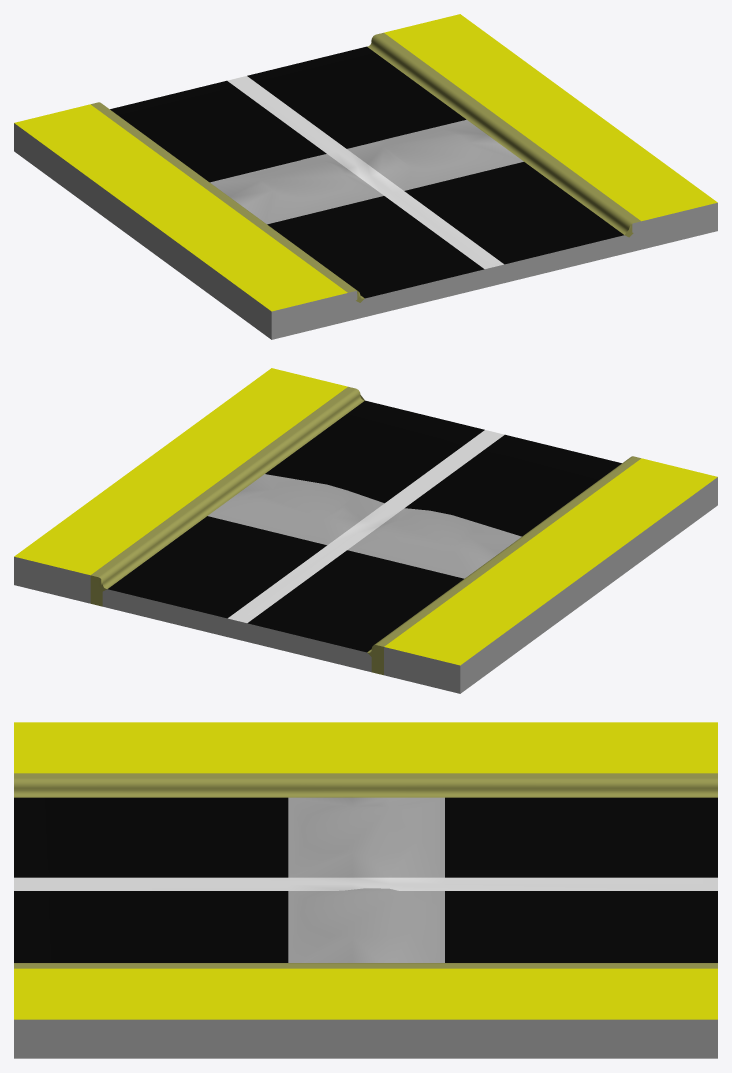
Rendered from Road2 fbx.fbx.
The picture shows the model from 3 angles, top to bottom: view 1: azimuth 30°, elevation 25°; view 2: azimuth 150°, elevation 25°; view 3: azimuth 270°, elevation 25°; orthographic projection. The views are drawn at different scales.
Visible parts, largest first — view 1: pCube1; view 2: pCube1; view 3: pCube1.
Part boxes in pixels (x1,y1,x2,y2): pCube1: [14, 14, 717, 339]; pCube1: [14, 368, 717, 693]; pCube1: [14, 722, 717, 1058].
Size of the model in its own units: 25 by 1.53 by 25.
